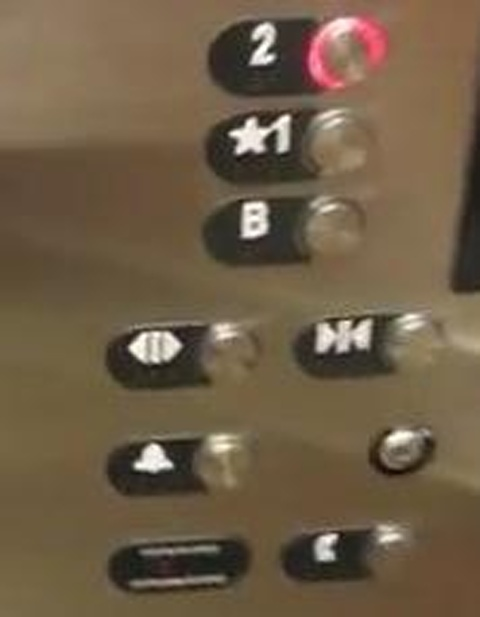2: (205, 7, 393, 98)
B: (202, 192, 371, 266)
alarm: (104, 428, 261, 501)
blur: (104, 534, 253, 594)
call: (277, 522, 418, 582)
close: (290, 308, 450, 382)
keyhole: (366, 421, 443, 478)
open: (104, 321, 264, 393)
s1: (200, 103, 383, 189)
